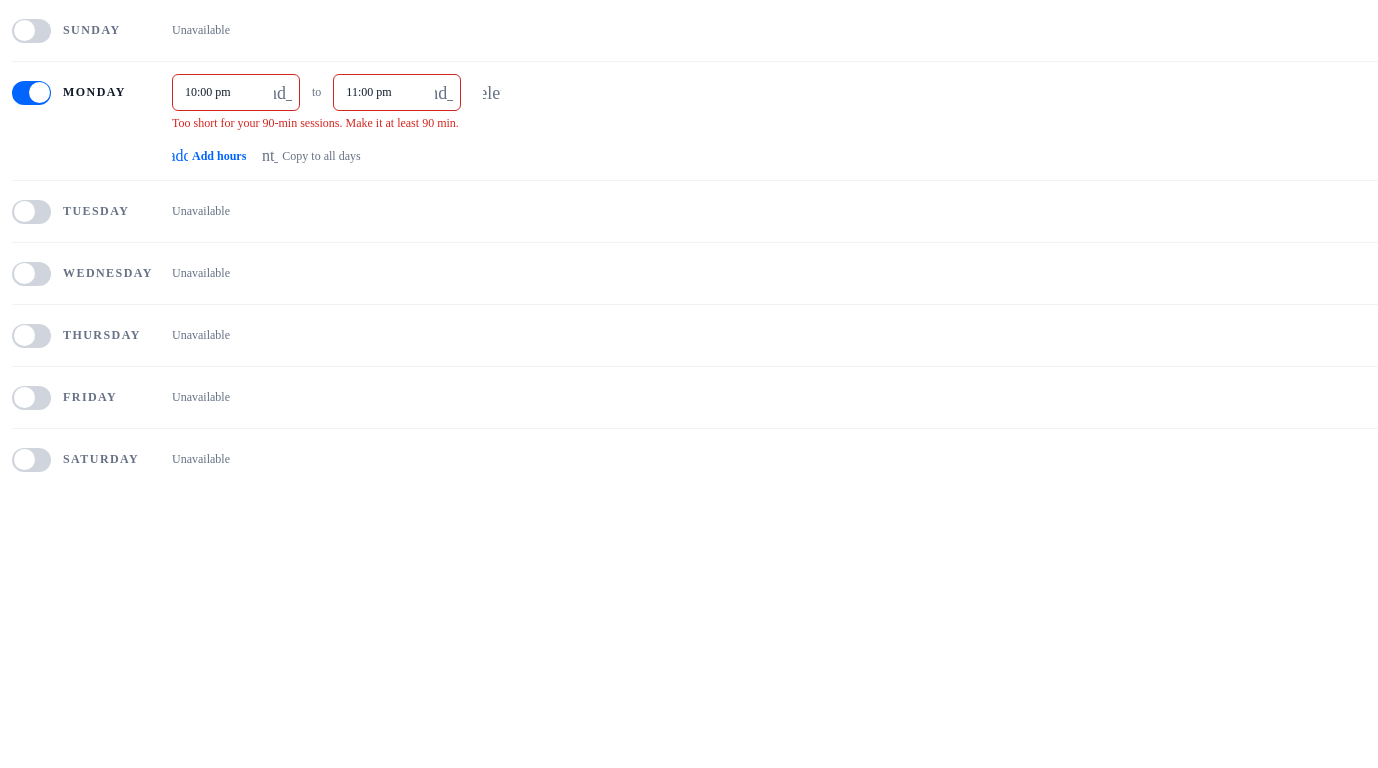
Test: WeeklyHoursEditor: hours fit the shortest session › Add hours never overlaps the last slot; one too short to fit says so
What coordinates should you click on to do the following:
click the button "add Add hours"
I would click on:
 (209, 156)
Its box is [172,144,246,168].
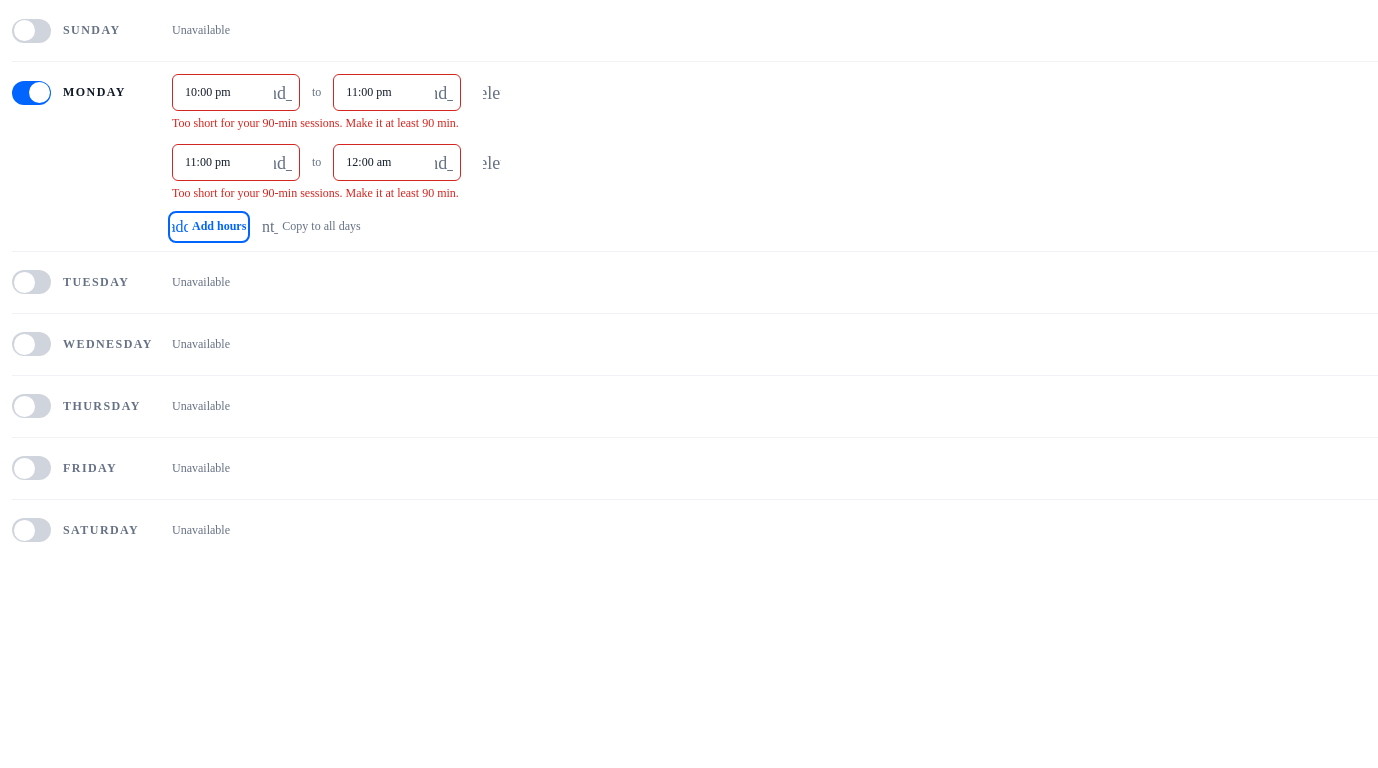
Check: the text "Too short for your 90-min sessions. Make it at least 90 min." is shown 2 times, box [172,116,459,130]; [172,186,459,200]
